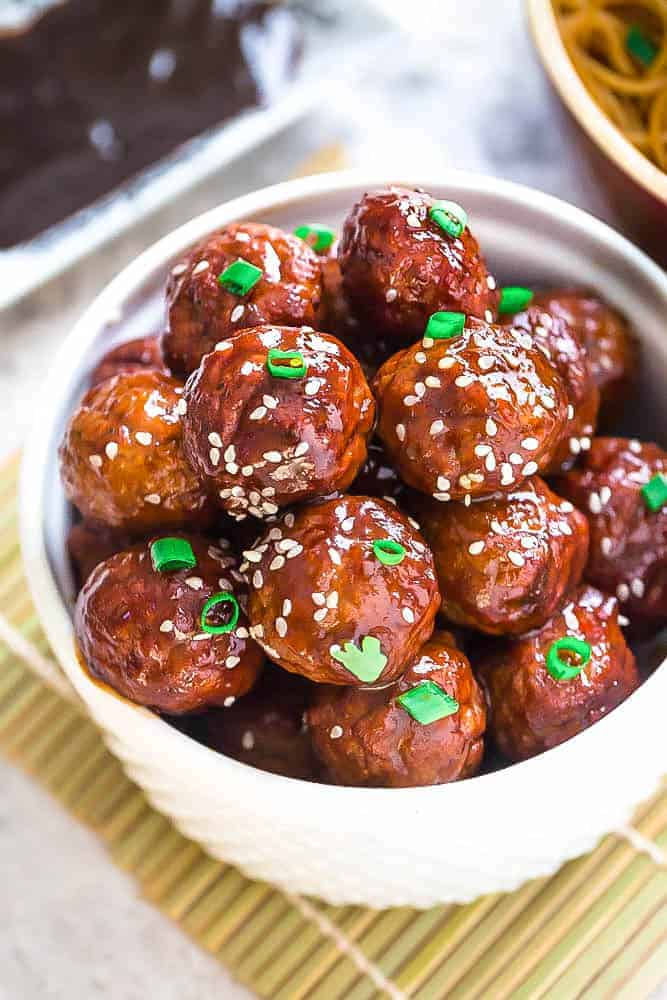meatballs: (254, 506, 434, 678), (78, 541, 243, 700), (388, 326, 558, 479), (200, 336, 363, 486), (321, 638, 480, 780), (338, 187, 499, 313), (433, 493, 576, 628), (58, 381, 201, 516), (501, 596, 628, 737), (174, 223, 316, 343)
